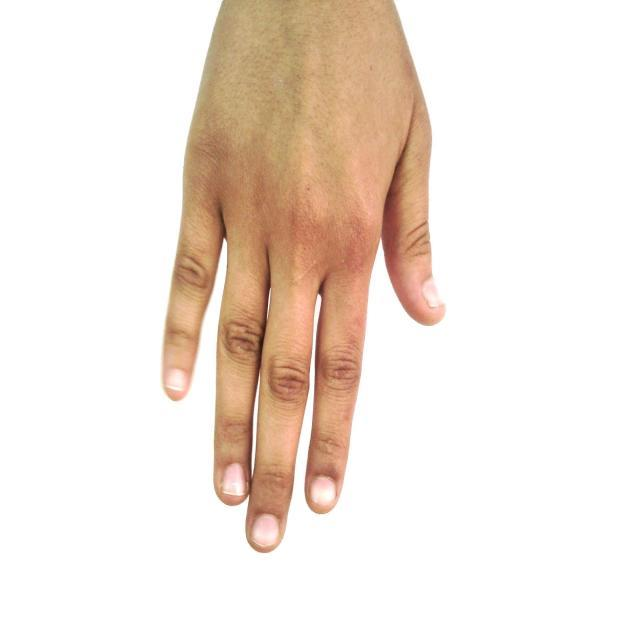Fingernail: (253, 515, 279, 545), (310, 477, 335, 508), (223, 464, 246, 495), (423, 278, 443, 308), (166, 370, 185, 393)
